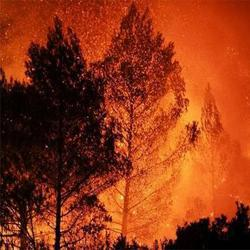fire: (159, 136, 201, 220), (103, 188, 127, 231)
